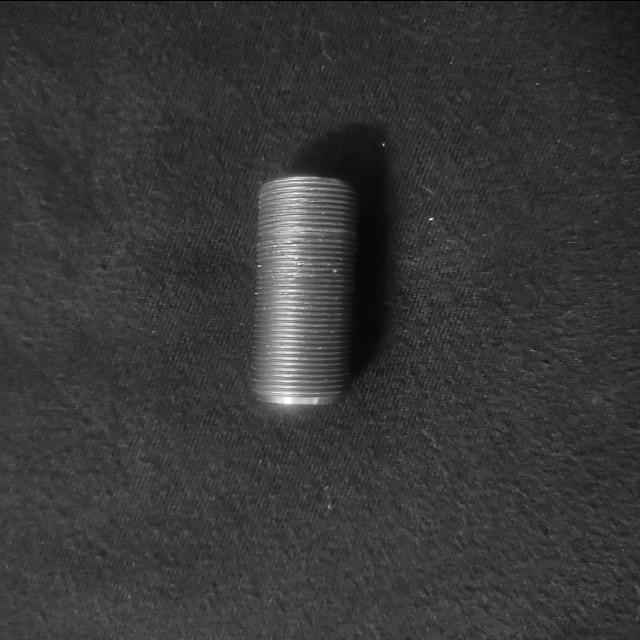Broken: (248, 173, 368, 404)
